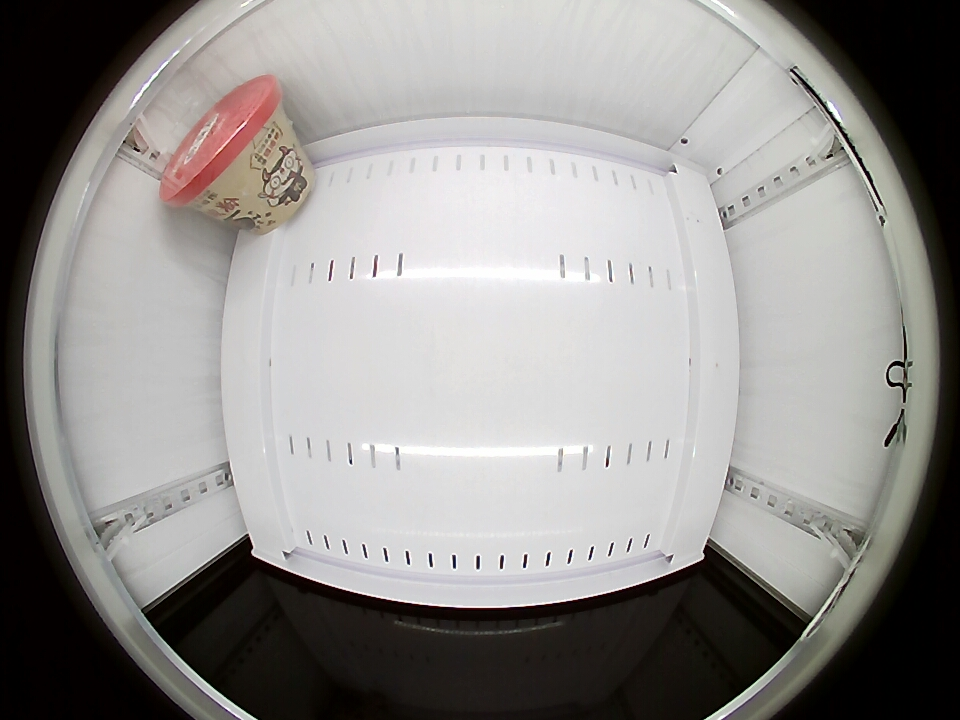suanlafen: (159, 75, 286, 211)
